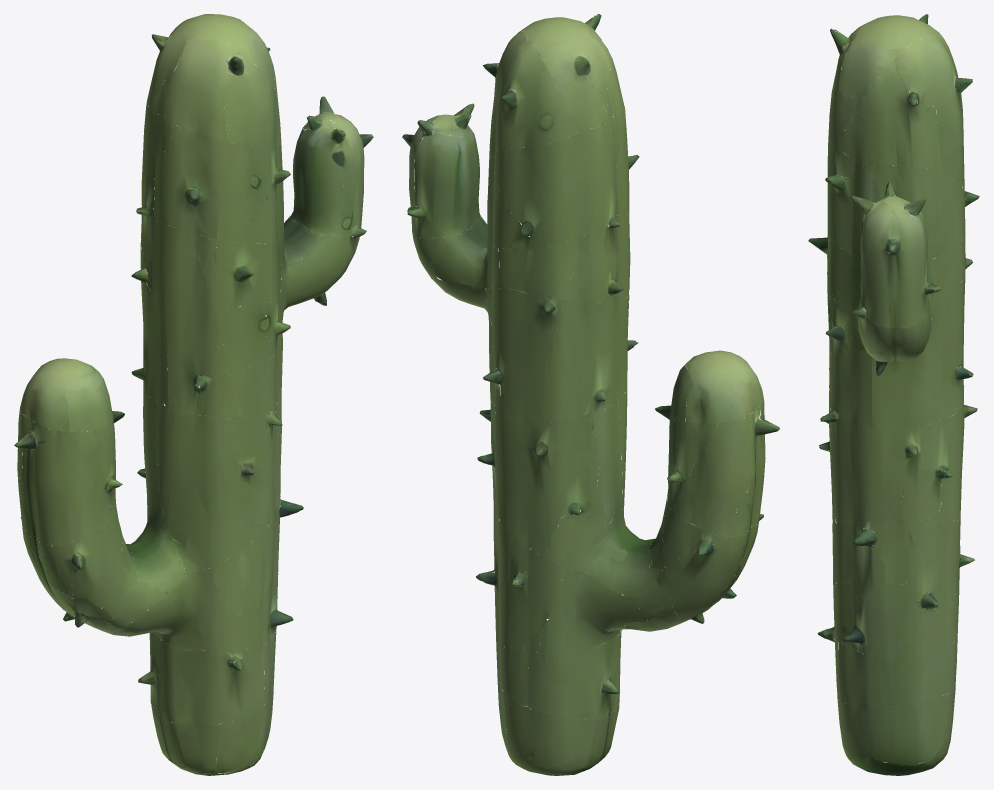
File: cactus_alto.glb
3 views of the same model, side by side, from view 1: azimuth 30°, elevation 25°; view 2: azimuth 150°, elevation 25°; view 3: azimuth 270°, elevation 25° (orthographic).
Visible parts, largest first — view 1: tripo_node_10bd60fd-ea25-4567-a55c-61968b8d419d; view 2: tripo_node_10bd60fd-ea25-4567-a55c-61968b8d419d; view 3: tripo_node_10bd60fd-ea25-4567-a55c-61968b8d419d.
Boxes of the visible parts, x1=… form: tripo_node_10bd60fd-ea25-4567-a55c-61968b8d419d: x1=14, y1=14, x2=373, y2=775; tripo_node_10bd60fd-ea25-4567-a55c-61968b8d419d: x1=402, y1=14, x2=779, y2=775; tripo_node_10bd60fd-ea25-4567-a55c-61968b8d419d: x1=808, y1=14, x2=979, y2=775.
Size of the model in its own units: 0.5177 by 0.9999 by 0.2088.
1 material, 1 textured.
